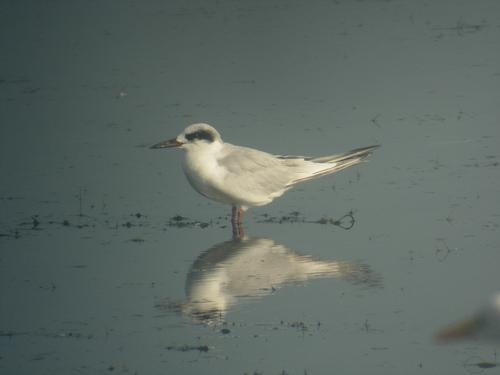bird: (152, 120, 380, 239)
